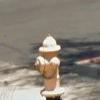Hydrant: (24, 23, 70, 100)
